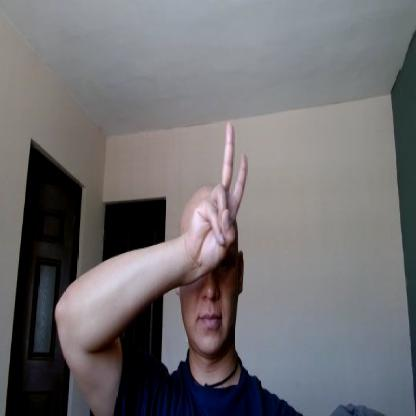V: (190, 120, 249, 272)
